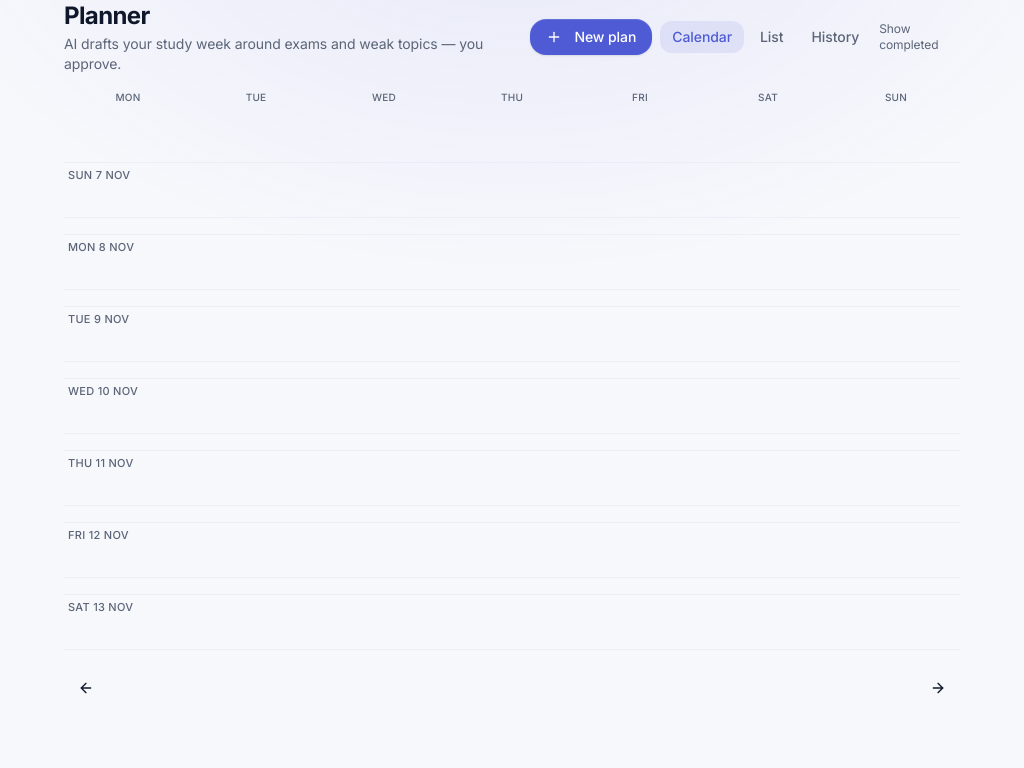
it: what the form sends to the planner › closes the dialog once the run is accepted
This screenshot has width=1024, height=768.
Click the button "New plan": (591, 37) [530,19,652,55]
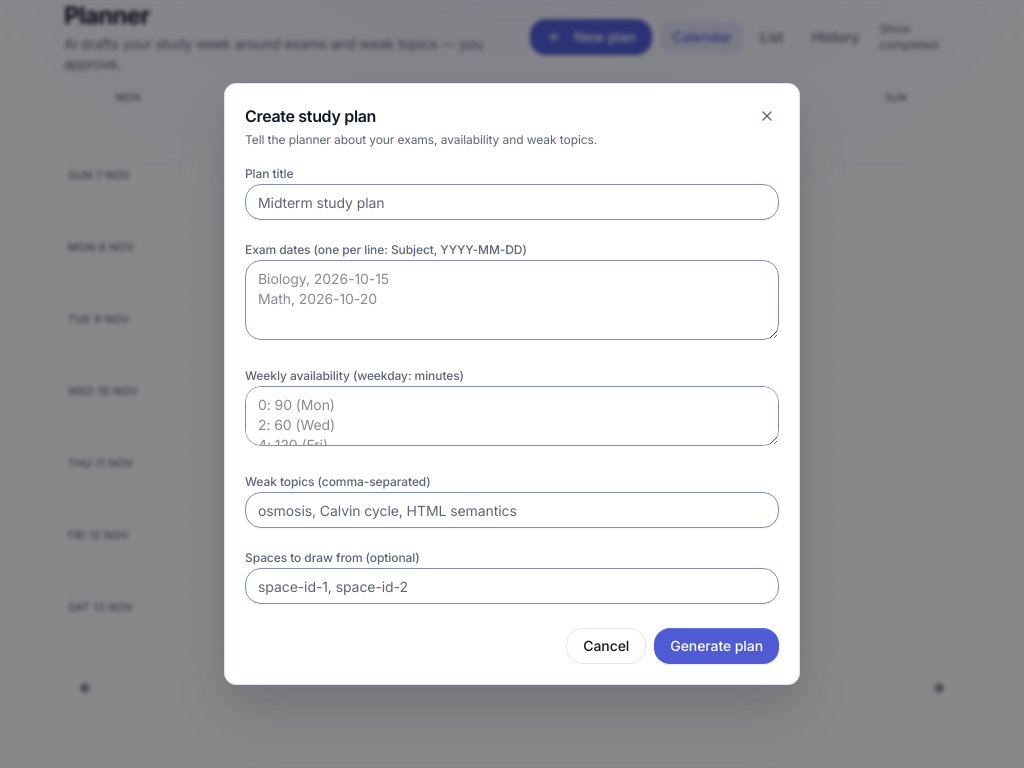
Click the button "Generate plan": (717, 646) [654,628,779,664]
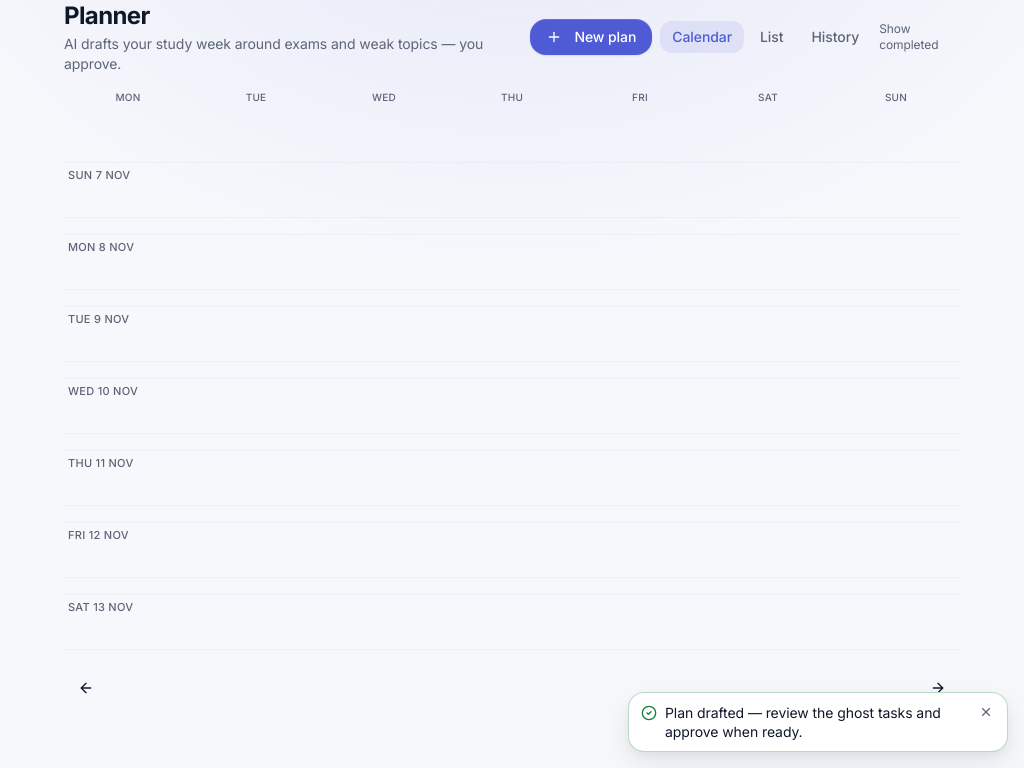
Now the dialog is gone
